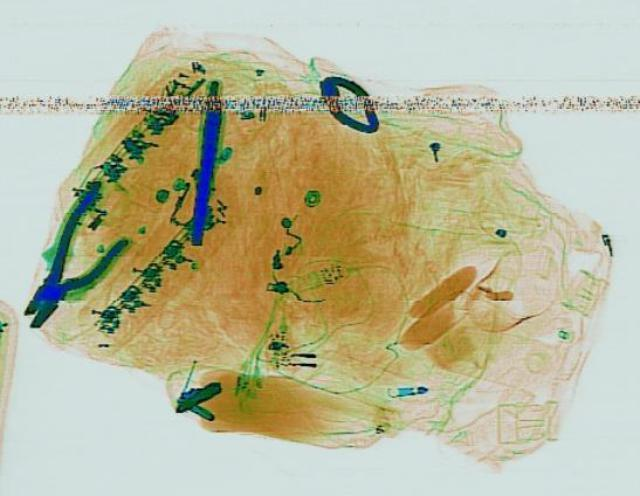Pliers: (0, 192, 140, 328)
